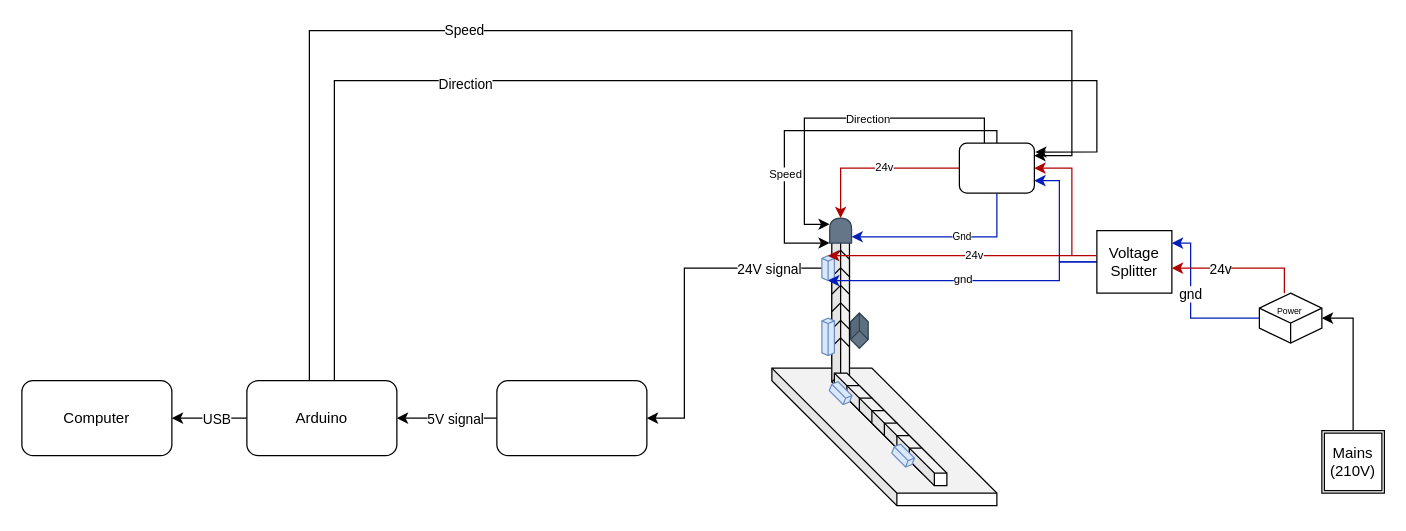
This 1406x531 diagram has some shape labels left out. The shapes that lost their labels are listed below. From the top down, each one's centre as x and y in pixels, then its label:
point (996, 167): Motor Driver
point (571, 417): Optocoupler
